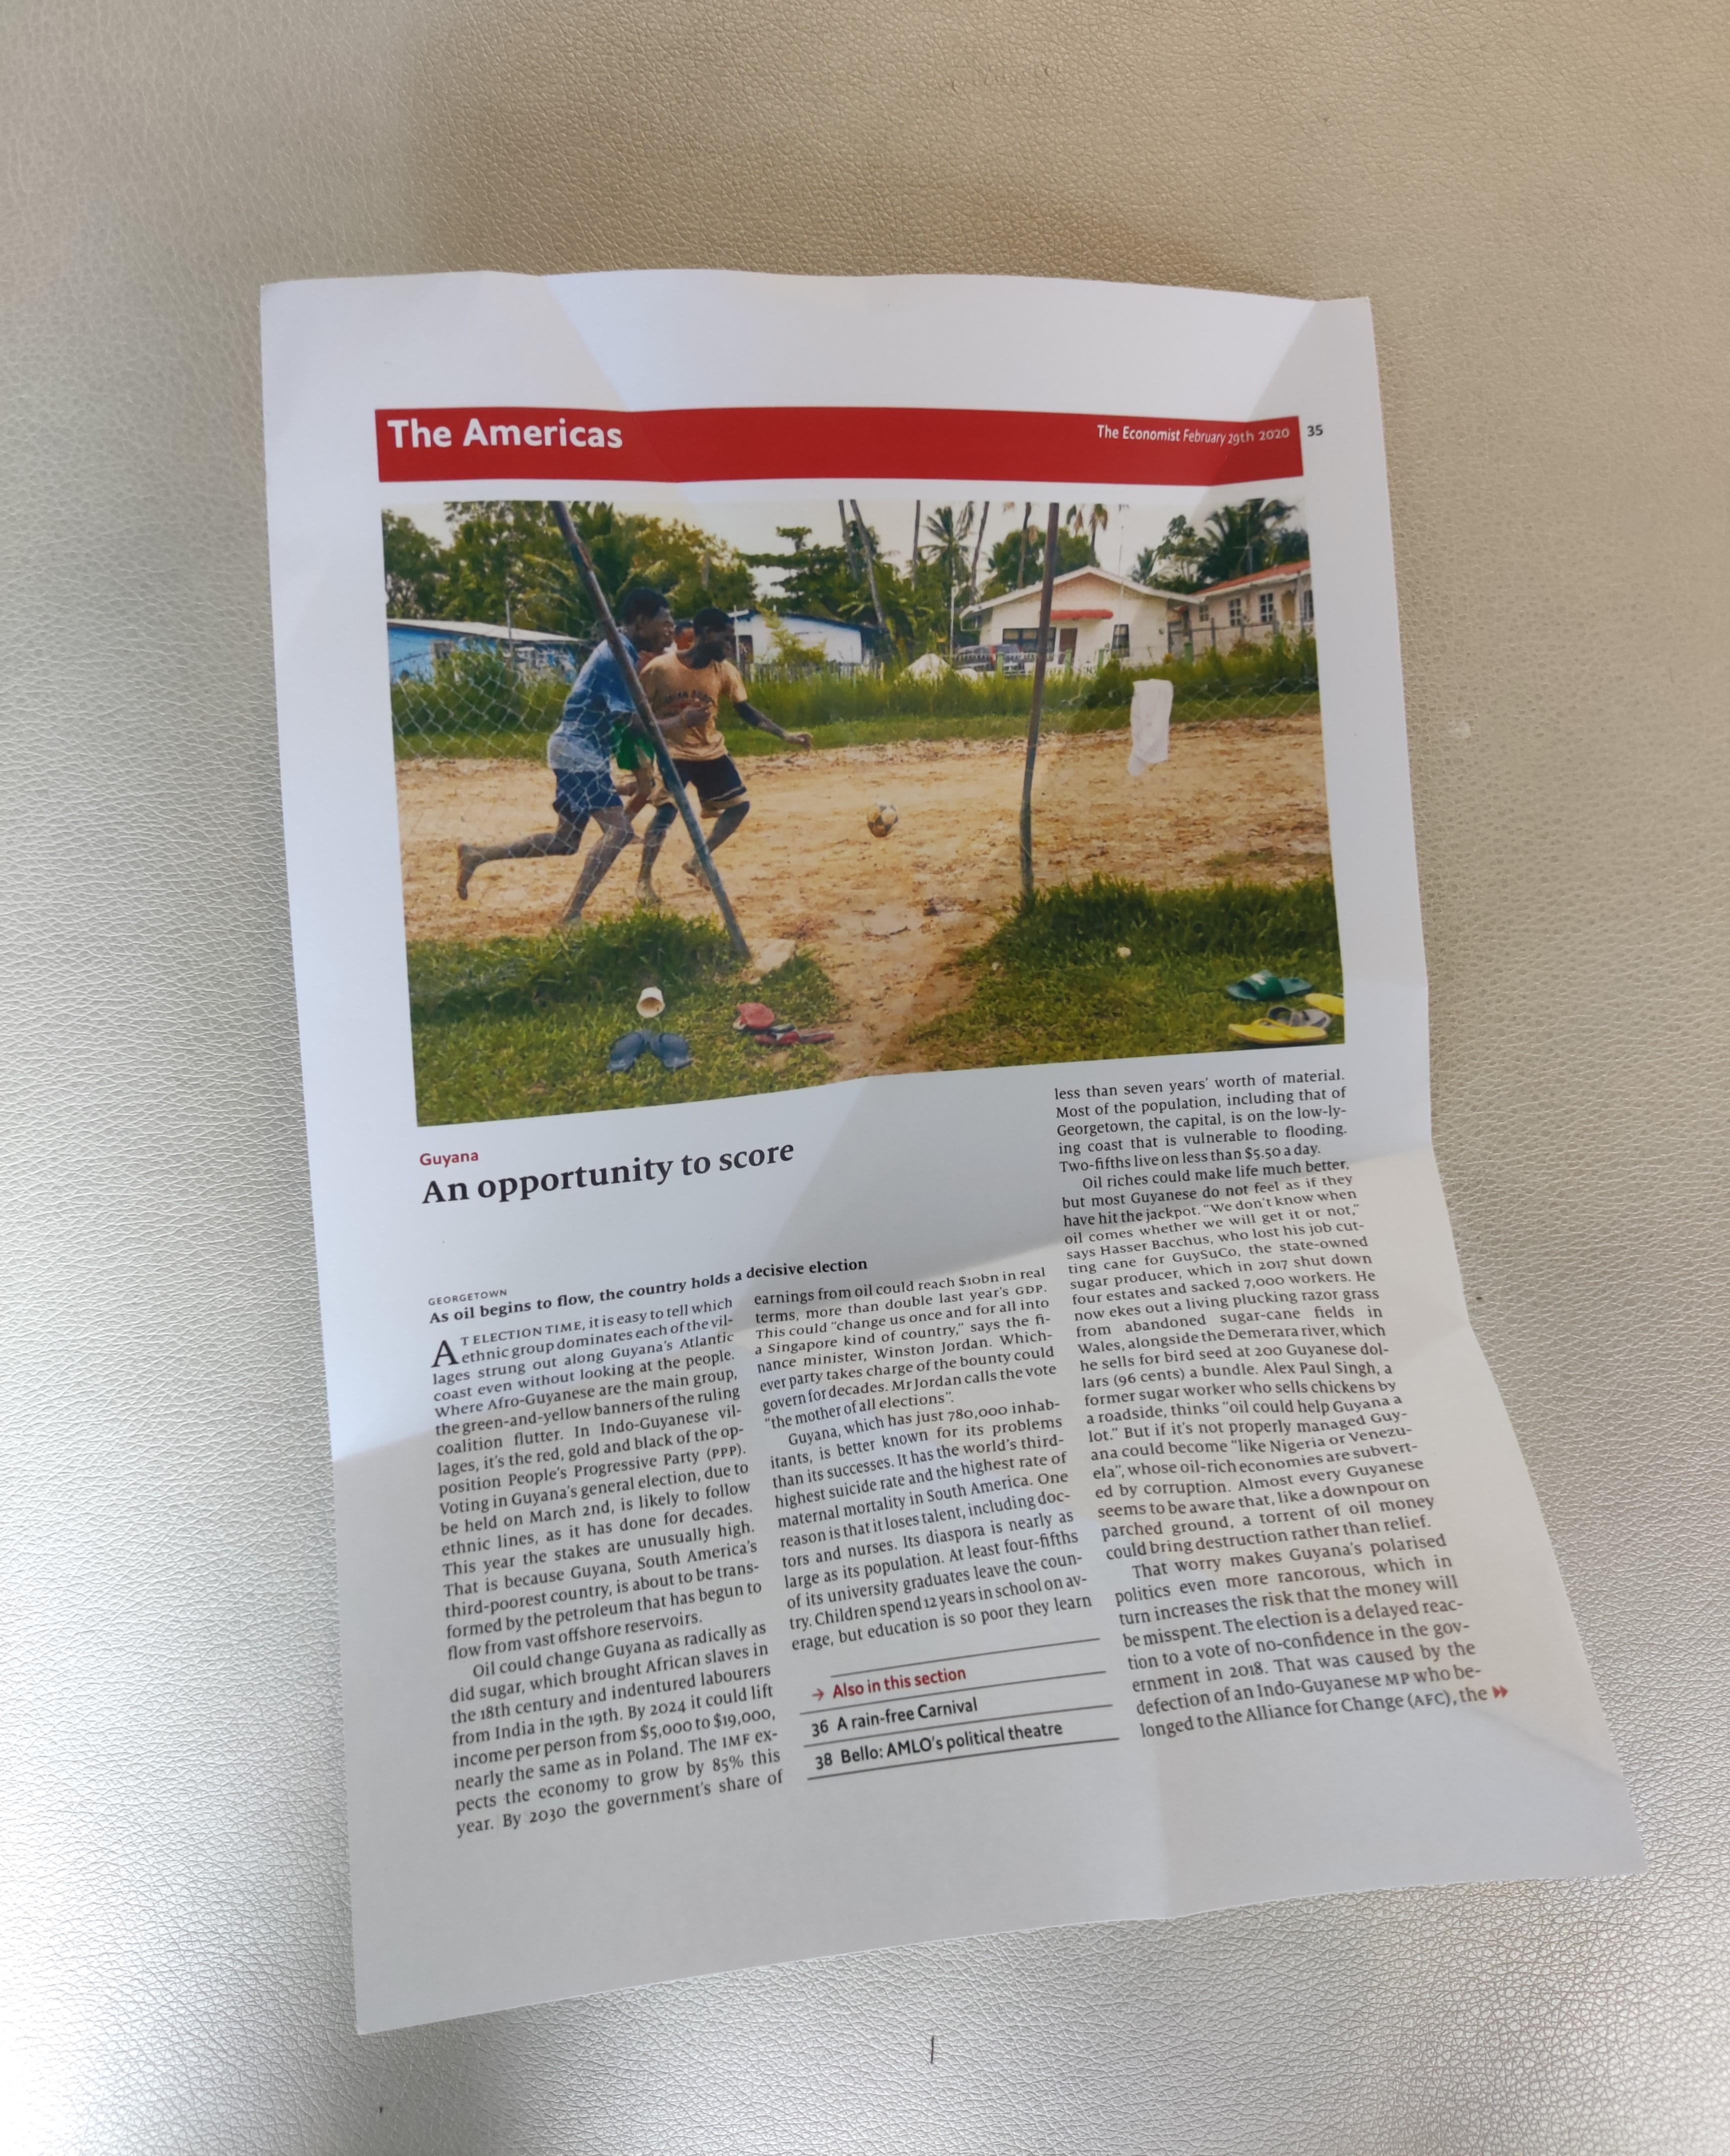paper: (101, 109, 1700, 2138)
